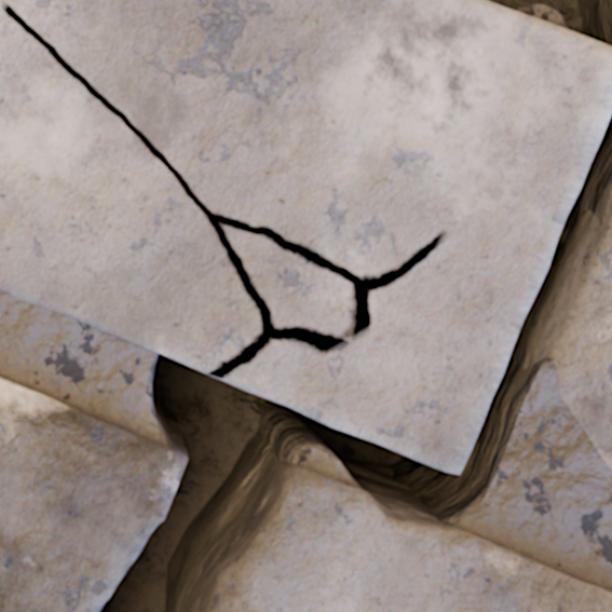brick: (0, 0, 611, 472), (0, 10, 261, 372), (556, 214, 611, 468)
broken_brick: (207, 465, 611, 611), (0, 376, 186, 611)
crack: (0, 2, 611, 611), (485, 0, 611, 47)
